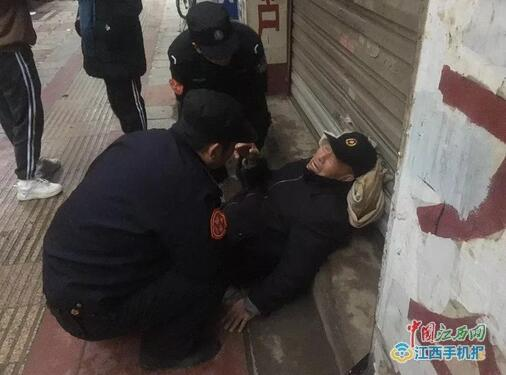fall: (204, 118, 391, 337)
